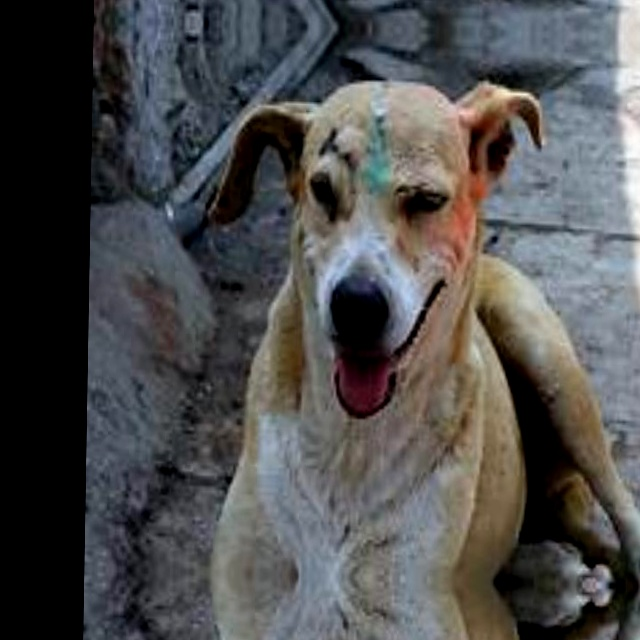dog: (183, 77, 610, 585), (182, 572, 602, 640)
